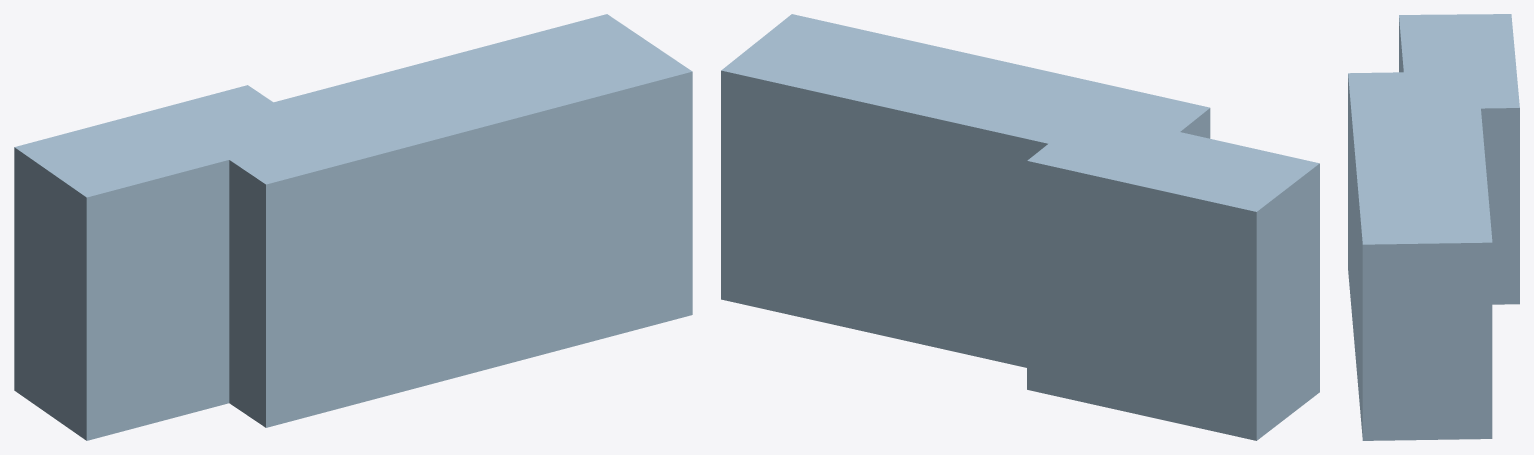
The model's file is osm_way_223859794.glb.
3 renders of one model, left to right at view 1: azimuth 30°, elevation 25°; view 2: azimuth 150°, elevation 25°; view 3: azimuth 270°, elevation 25°, orthographic. The views are drawn at different scales.
Parts seen in each view (by area): view 1: osm_way_223859794; view 2: osm_way_223859794; view 3: osm_way_223859794.
Part boxes in pixels (left/top/right/bottom): osm_way_223859794: left=14, top=14, right=692, bottom=440; osm_way_223859794: left=721, top=14, right=1319, bottom=440; osm_way_223859794: left=1348, top=14, right=1519, bottom=440.
Size of the model in its own units: 48.39 by 19.2 by 15.24.
